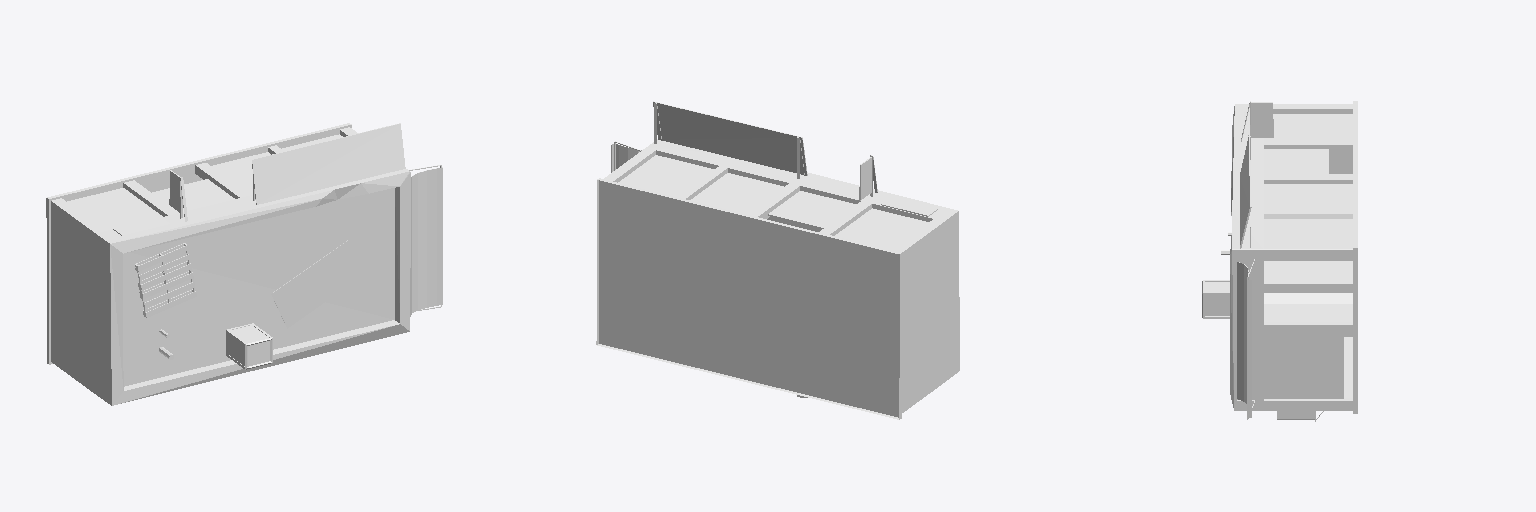
Rendered from building4.obj.
3 views of the same model, side by side, from view 1: azimuth 30°, elevation 25°; view 2: azimuth 150°, elevation 25°; view 3: azimuth 270°, elevation 25° (orthographic).
Parts seen in each view (by area): view 1: Building4_025; view 2: Building4_025; view 3: Building4_025.
Part boxes in pixels (left/top/right/bottom): Building4_025: left=46, top=123, right=442, bottom=405; Building4_025: left=596, top=101, right=959, bottom=419; Building4_025: left=1202, top=101, right=1357, bottom=421.
Bounding box in the file's own units: 10.72 × 6.73 × 4.23.